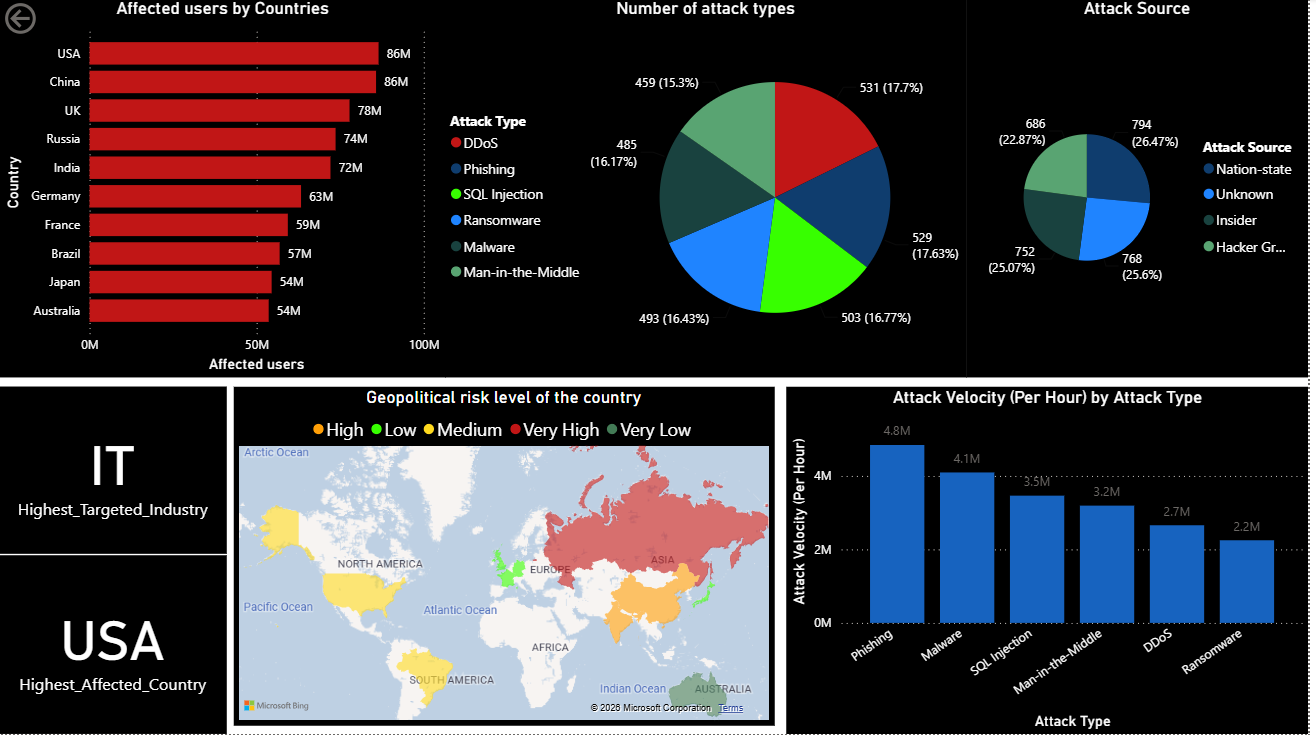

The dashboard page shown, as its layout file describes it:
{"tool":"powerbi","page":{"name":"Page 2","canvas":[1280,720],"ordinal":1},"visuals":[{"type":"card","fields":{"Values":["Sheet1.Highest_Attack_Type"]},"box":[0,148.6,352.9,162.9],"z":0},{"type":"filledMap","title":"Geopolitical risk level  of the country","fields":{"Series":["Sheet1.Geopolitical Risk Score - Copy"],"Category":["Sheet1.Country"]},"box":[228.6,380,528.6,331.4],"z":1000},{"type":"clusteredBarChart","title":"Affected users by Countries","fields":{"Category":["Sheet1.Country"],"Y":["Sum(Sheet1.Number of Affected Users)"]},"box":[0,0,435.7,371.4],"z":2000},{"type":"card","fields":{"Values":["Sheet1.Highest_Attacked_Country"]},"box":[0,545.7,221.4,174.3],"z":3000},{"type":"card","fields":{"Values":["Sheet1.Highest_Targeted_Industry"]},"box":[0,380,221.4,162.9],"z":4000},{"type":"pieChart","title":"Number of attack types","fields":{"Category":["Sheet1.Attack Type"],"Y":["CountNonNull(Sheet1.Attack Type)"]},"box":[435.7,0,510,371.4],"z":5000},{"type":"pieChart","title":"Attack Source","fields":{"Category":["Sheet1.Attack Source"],"Y":["CountNonNull(Sheet1.Attack Source)"]},"box":[945.7,0,334.3,371.4],"z":6000},{"type":"actionButton","box":[0,0,100,40],"z":7000},{"type":"clusteredColumnChart","title":" Attack Velocity (Per Hour) by Attack Type","fields":{"Y":["Sum(Sheet1.Attack Velocity (Per Hour))"],"Category":["Sheet1.Attack Type"]},"box":[768.6,380,511.4,340],"z":8000}]}

Visuals, with their boxes in screenshot pixels (x1, y1, x2, y2), scaled from the page's 1280x720 canvas onto the 1316x735 screenshot:
card - Sheet1.Highest_Attack_Type: rect(0, 152, 363, 318)
"Geopolitical risk level  of the country" filledMap: rect(235, 388, 778, 726)
"Affected users by Countries" clusteredBarChart: rect(0, 0, 448, 379)
card - Sheet1.Highest_Attacked_Country: rect(0, 557, 228, 734)
card - Sheet1.Highest_Targeted_Industry: rect(0, 388, 228, 554)
"Number of attack types" pieChart: rect(448, 0, 972, 379)
"Attack Source" pieChart: rect(972, 0, 1315, 379)
actionButton: rect(0, 0, 103, 41)
" Attack Velocity (Per Hour) by Attack Type" clusteredColumnChart: rect(790, 388, 1315, 734)
